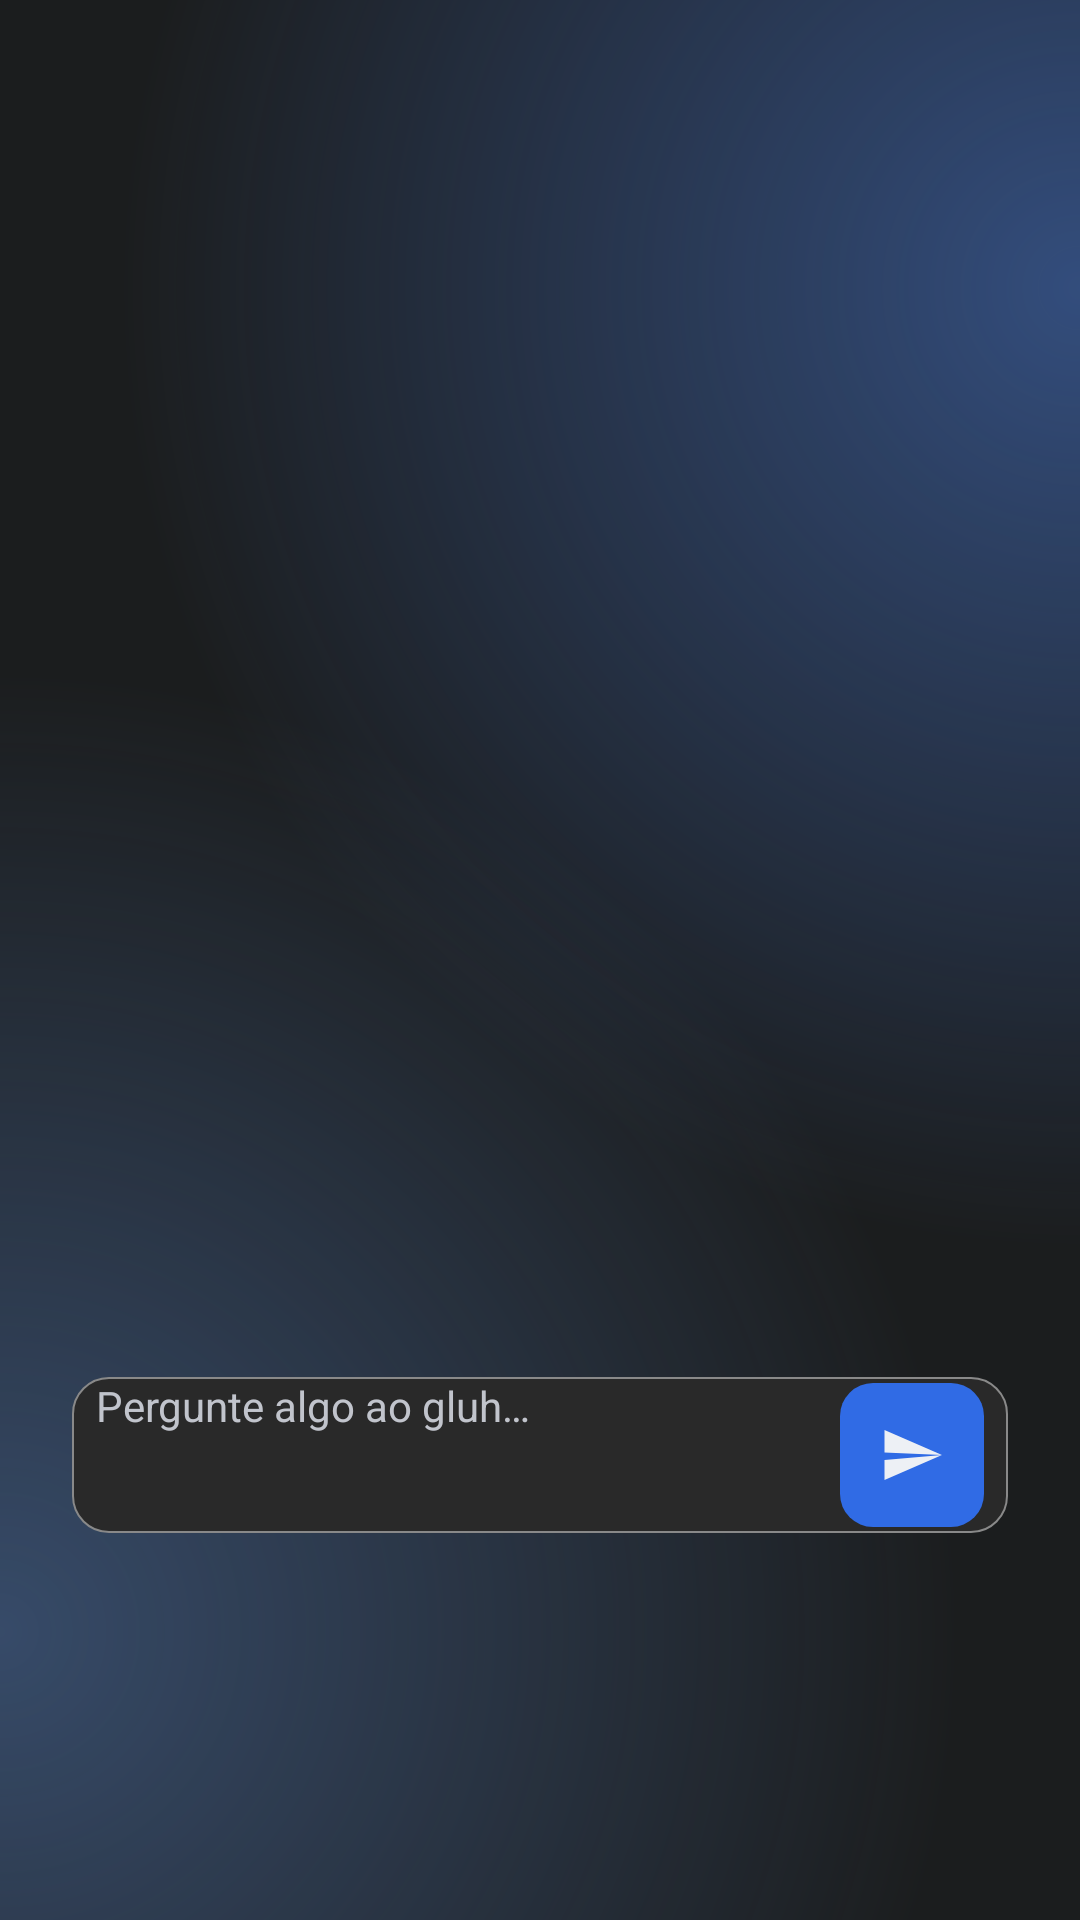

Named icons in this screenshot (1080*1920) and their bounding boxes, [left=x1, top=y1, right=x2, bottom=y2]:
Enviar: [left=840, top=1383, right=984, bottom=1527]
